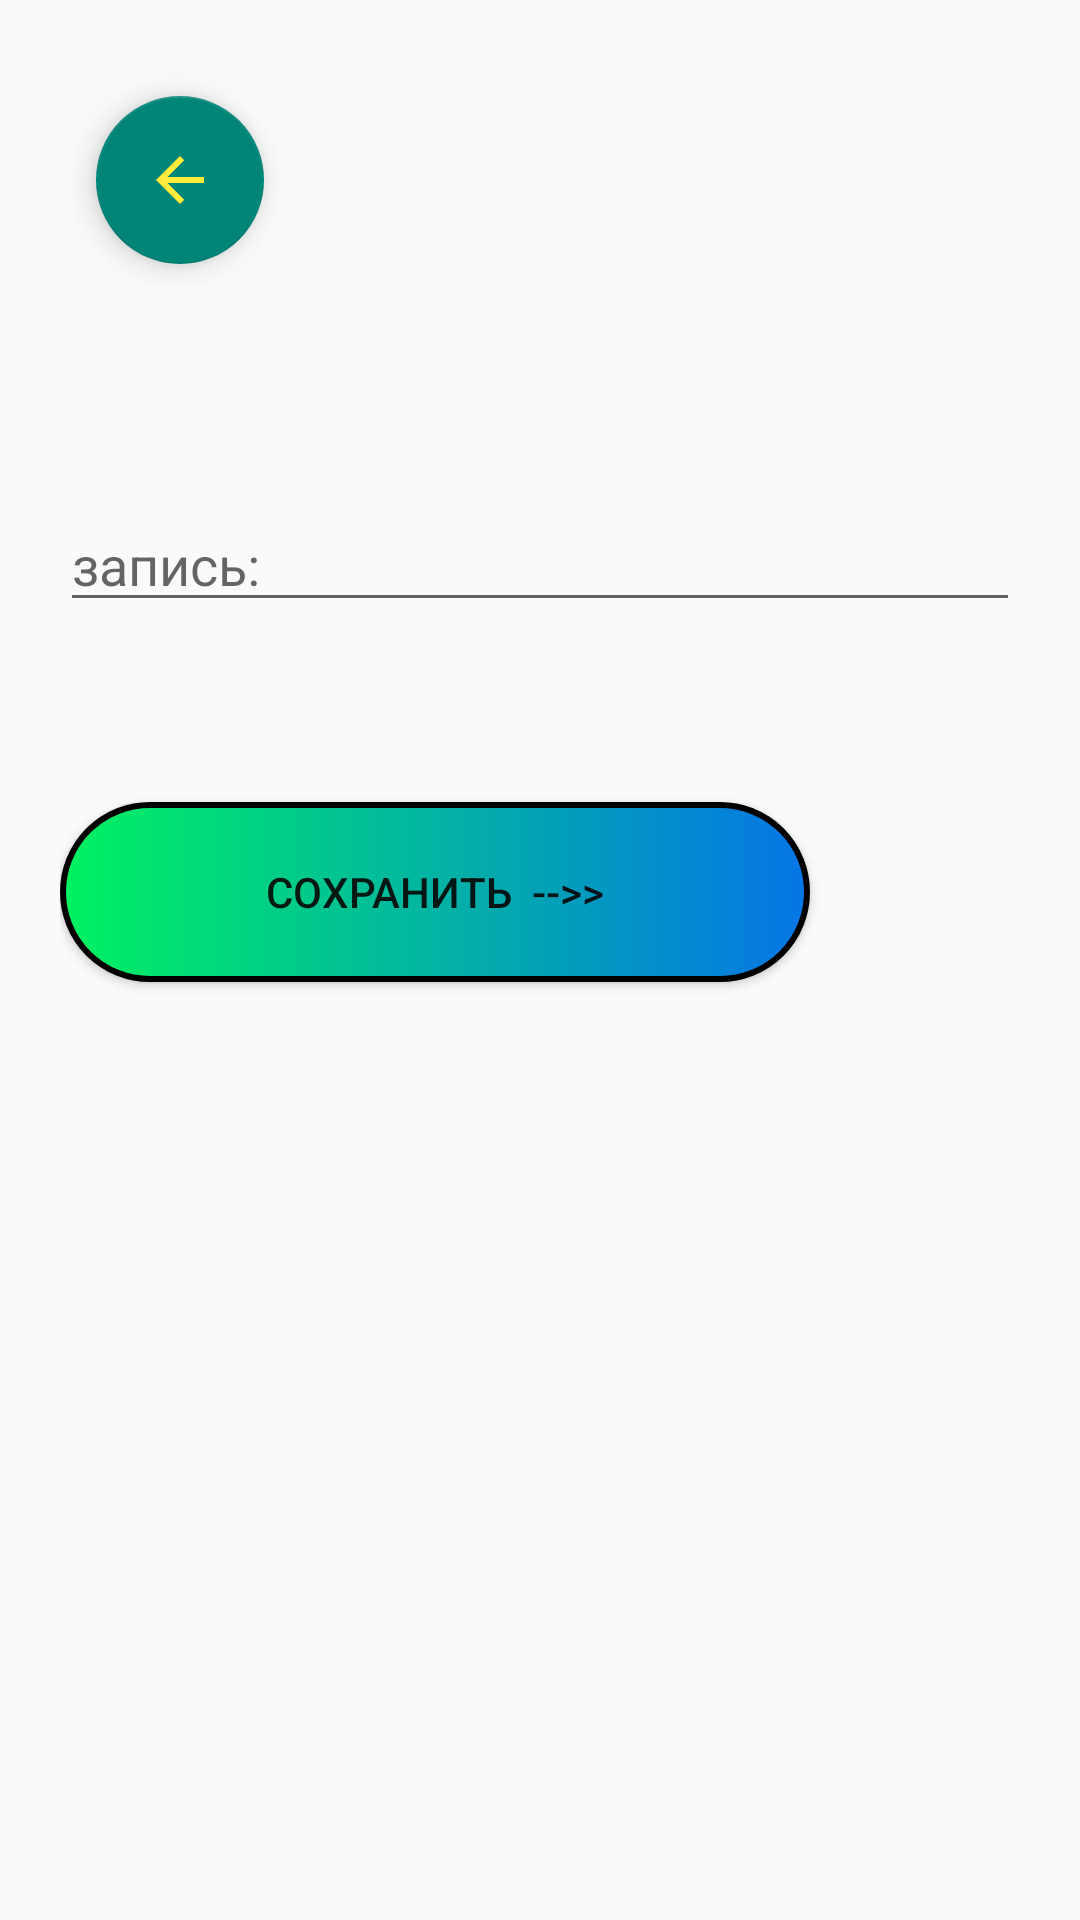

Icons on this 1080x1920 Android screen, each with the point to tap as (x=x, y=y):
arrow back: (x=180, y=180)
